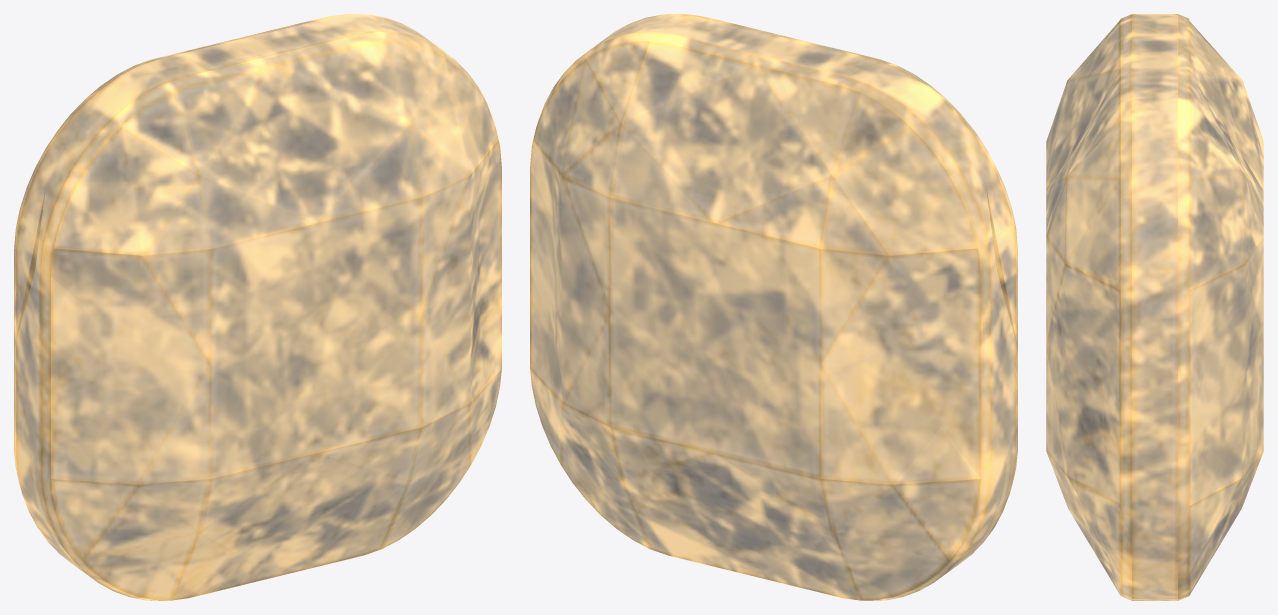
Rendered from Cushion.glb.
3 views of the same model, side by side, from view 1: azimuth 30°, elevation 25°; view 2: azimuth 150°, elevation 25°; view 3: azimuth 270°, elevation 25° (orthographic). The views are drawn at different scales.
Parts seen in each view (by area): view 1: Plane.002_Diamond_Master_0; view 2: Plane.002_Diamond_Master_0; view 3: Plane.002_Diamond_Master_0.
Boxes of the visible parts, box(x1,y1,x2,y2) form: Plane.002_Diamond_Master_0: box(14, 14, 501, 600); Plane.002_Diamond_Master_0: box(530, 14, 1017, 600); Plane.002_Diamond_Master_0: box(1046, 14, 1263, 600).
Size of the model in its own units: 0.9978 by 1.08 by 0.4396.
Materials: 1 (1 with a texture image).
